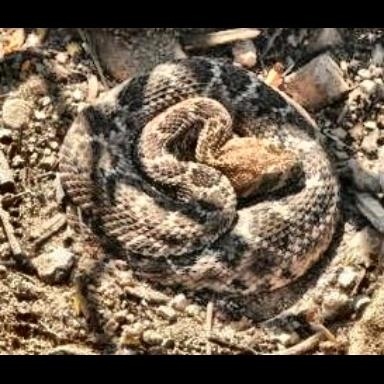snake: (54, 43, 351, 300)
